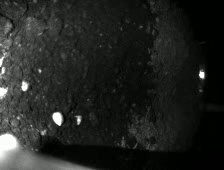corn: (1, 131, 22, 164), (51, 110, 66, 127), (19, 78, 32, 93), (72, 113, 84, 127)
